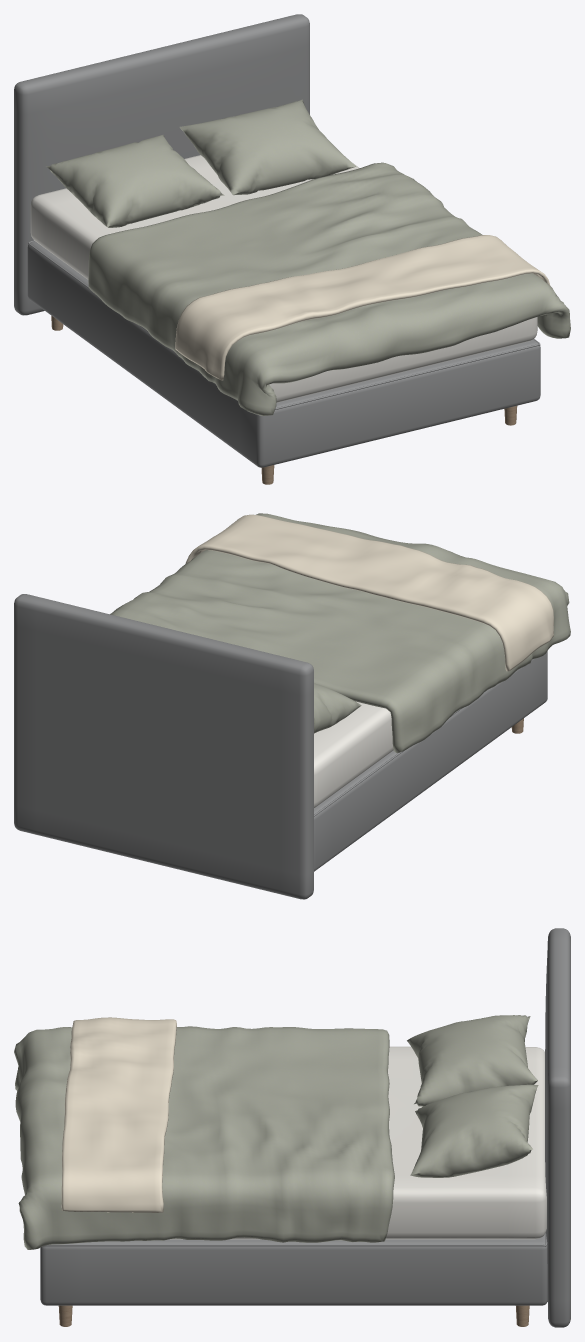
Rendered from bed.glb.
The picture shows the model from 3 angles, top to bottom: view 1: azimuth 30°, elevation 25°; view 2: azimuth 150°, elevation 25°; view 3: azimuth 270°, elevation 25°; orthographic projection. The views are drawn at different scales.
Parts seen in each view (by area): view 1: bed_v1; view 2: bed_v1; view 3: bed_v1.
Boxes of the visible parts, x1,y1,x2,y2 form: bed_v1: (14, 14, 570, 484); bed_v1: (14, 513, 570, 899); bed_v1: (14, 928, 570, 1327).
Size of the model in its own units: 1.64 by 1.12 by 2.19.
Materials: 5 (2 with a texture image).
